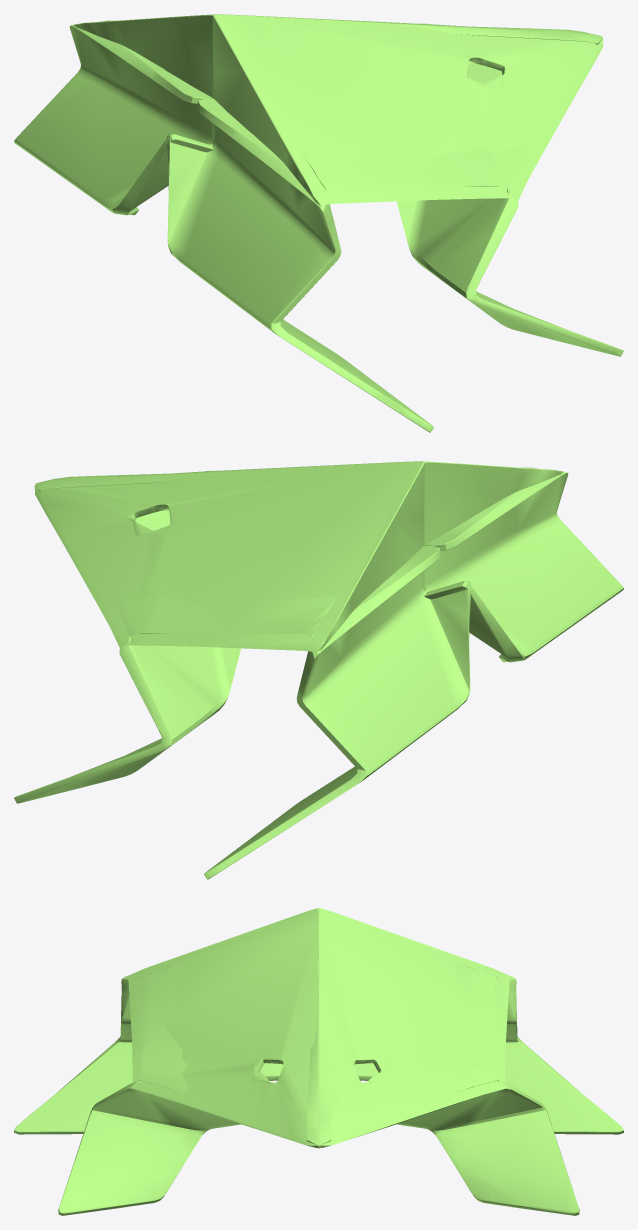
File: frog.fbx
3 renders of one model, top to bottom at view 1: azimuth 30°, elevation 25°; view 2: azimuth 150°, elevation 25°; view 3: azimuth 270°, elevation 25°, orthographic. The views are drawn at different scales.
Parts seen in each view (by area): view 1: Plane.002; view 2: Plane.002; view 3: Plane.002.
Boxes of the visible parts, left/top/right/bottom form: Plane.002: left=14, top=14, right=623, bottom=432; Plane.002: left=14, top=461, right=623, bottom=879; Plane.002: left=14, top=908, right=623, bottom=1215.
Size of the model in its own units: 264 by 156 by 390.
